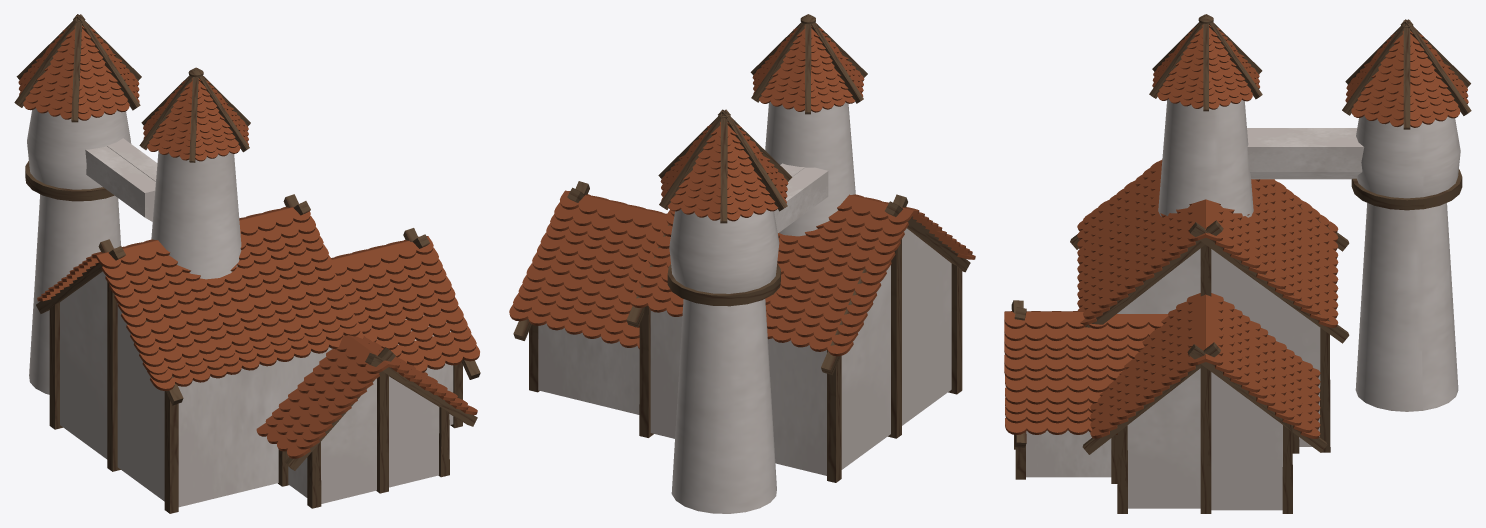
Rendered from BigHouse.fbx.
3 renders of one model, left to right at view 1: azimuth 30°, elevation 25°; view 2: azimuth 150°, elevation 25°; view 3: azimuth 270°, elevation 25°, orthographic. The views are drawn at different scales.
Parts seen in each view (by area): view 1: polySurface622; view 2: polySurface622; view 3: polySurface622.
Boxes of the visible parts, box(x1,y1,x2,y2) form: polySurface622: box(14, 14, 480, 513); polySurface622: box(509, 14, 975, 513); polySurface622: box(1004, 14, 1471, 513).
Size of the model in its own units: 2.99 by 3.26 by 3.55.
